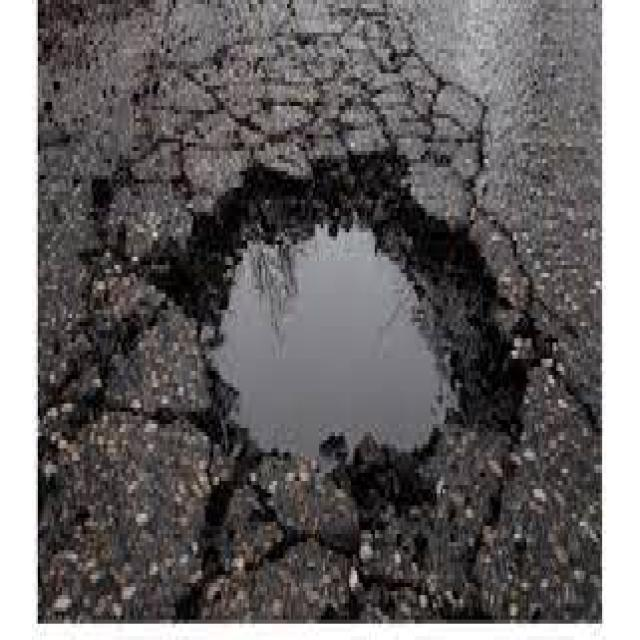pothole: (120, 133, 519, 490)
